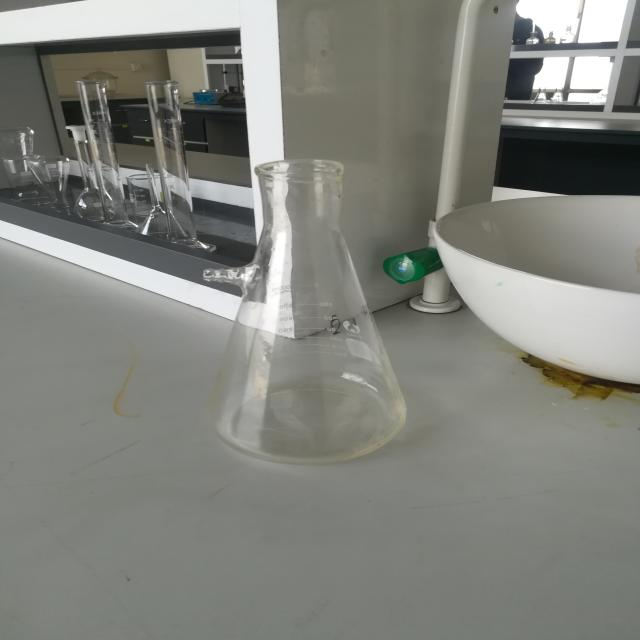Conical_Flask: (172, 124, 450, 501)
